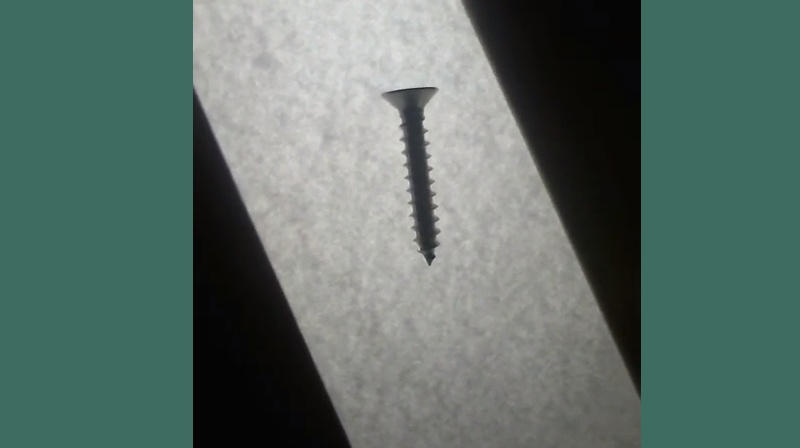S001: (379, 82, 442, 271)
